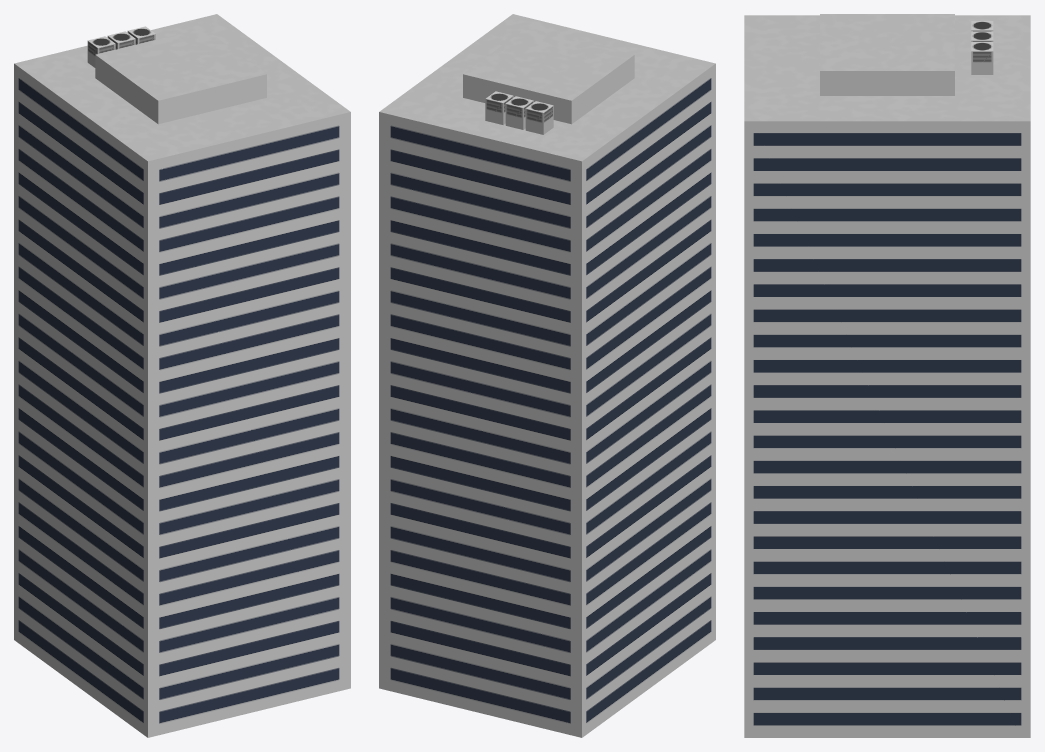
File: Building_M_W2_001.fbx
The picture shows the model from 3 angles, left to right: view 1: azimuth 30°, elevation 25°; view 2: azimuth 150°, elevation 25°; view 3: azimuth 270°, elevation 25°; orthographic projection. The views are drawn at different scales.
Visible parts, largest first — view 1: Building_M_W2_001; view 2: Building_M_W2_001; view 3: Building_M_W2_001.
Part boxes in pixels (x1=…): Building_M_W2_001: x1=14, y1=14, x2=350, y2=737; Building_M_W2_001: x1=379, y1=14, x2=715, y2=737; Building_M_W2_001: x1=744, y1=14, x2=1030, y2=737.
Size of the model in its own units: 39.71 by 112 by 45.34.
